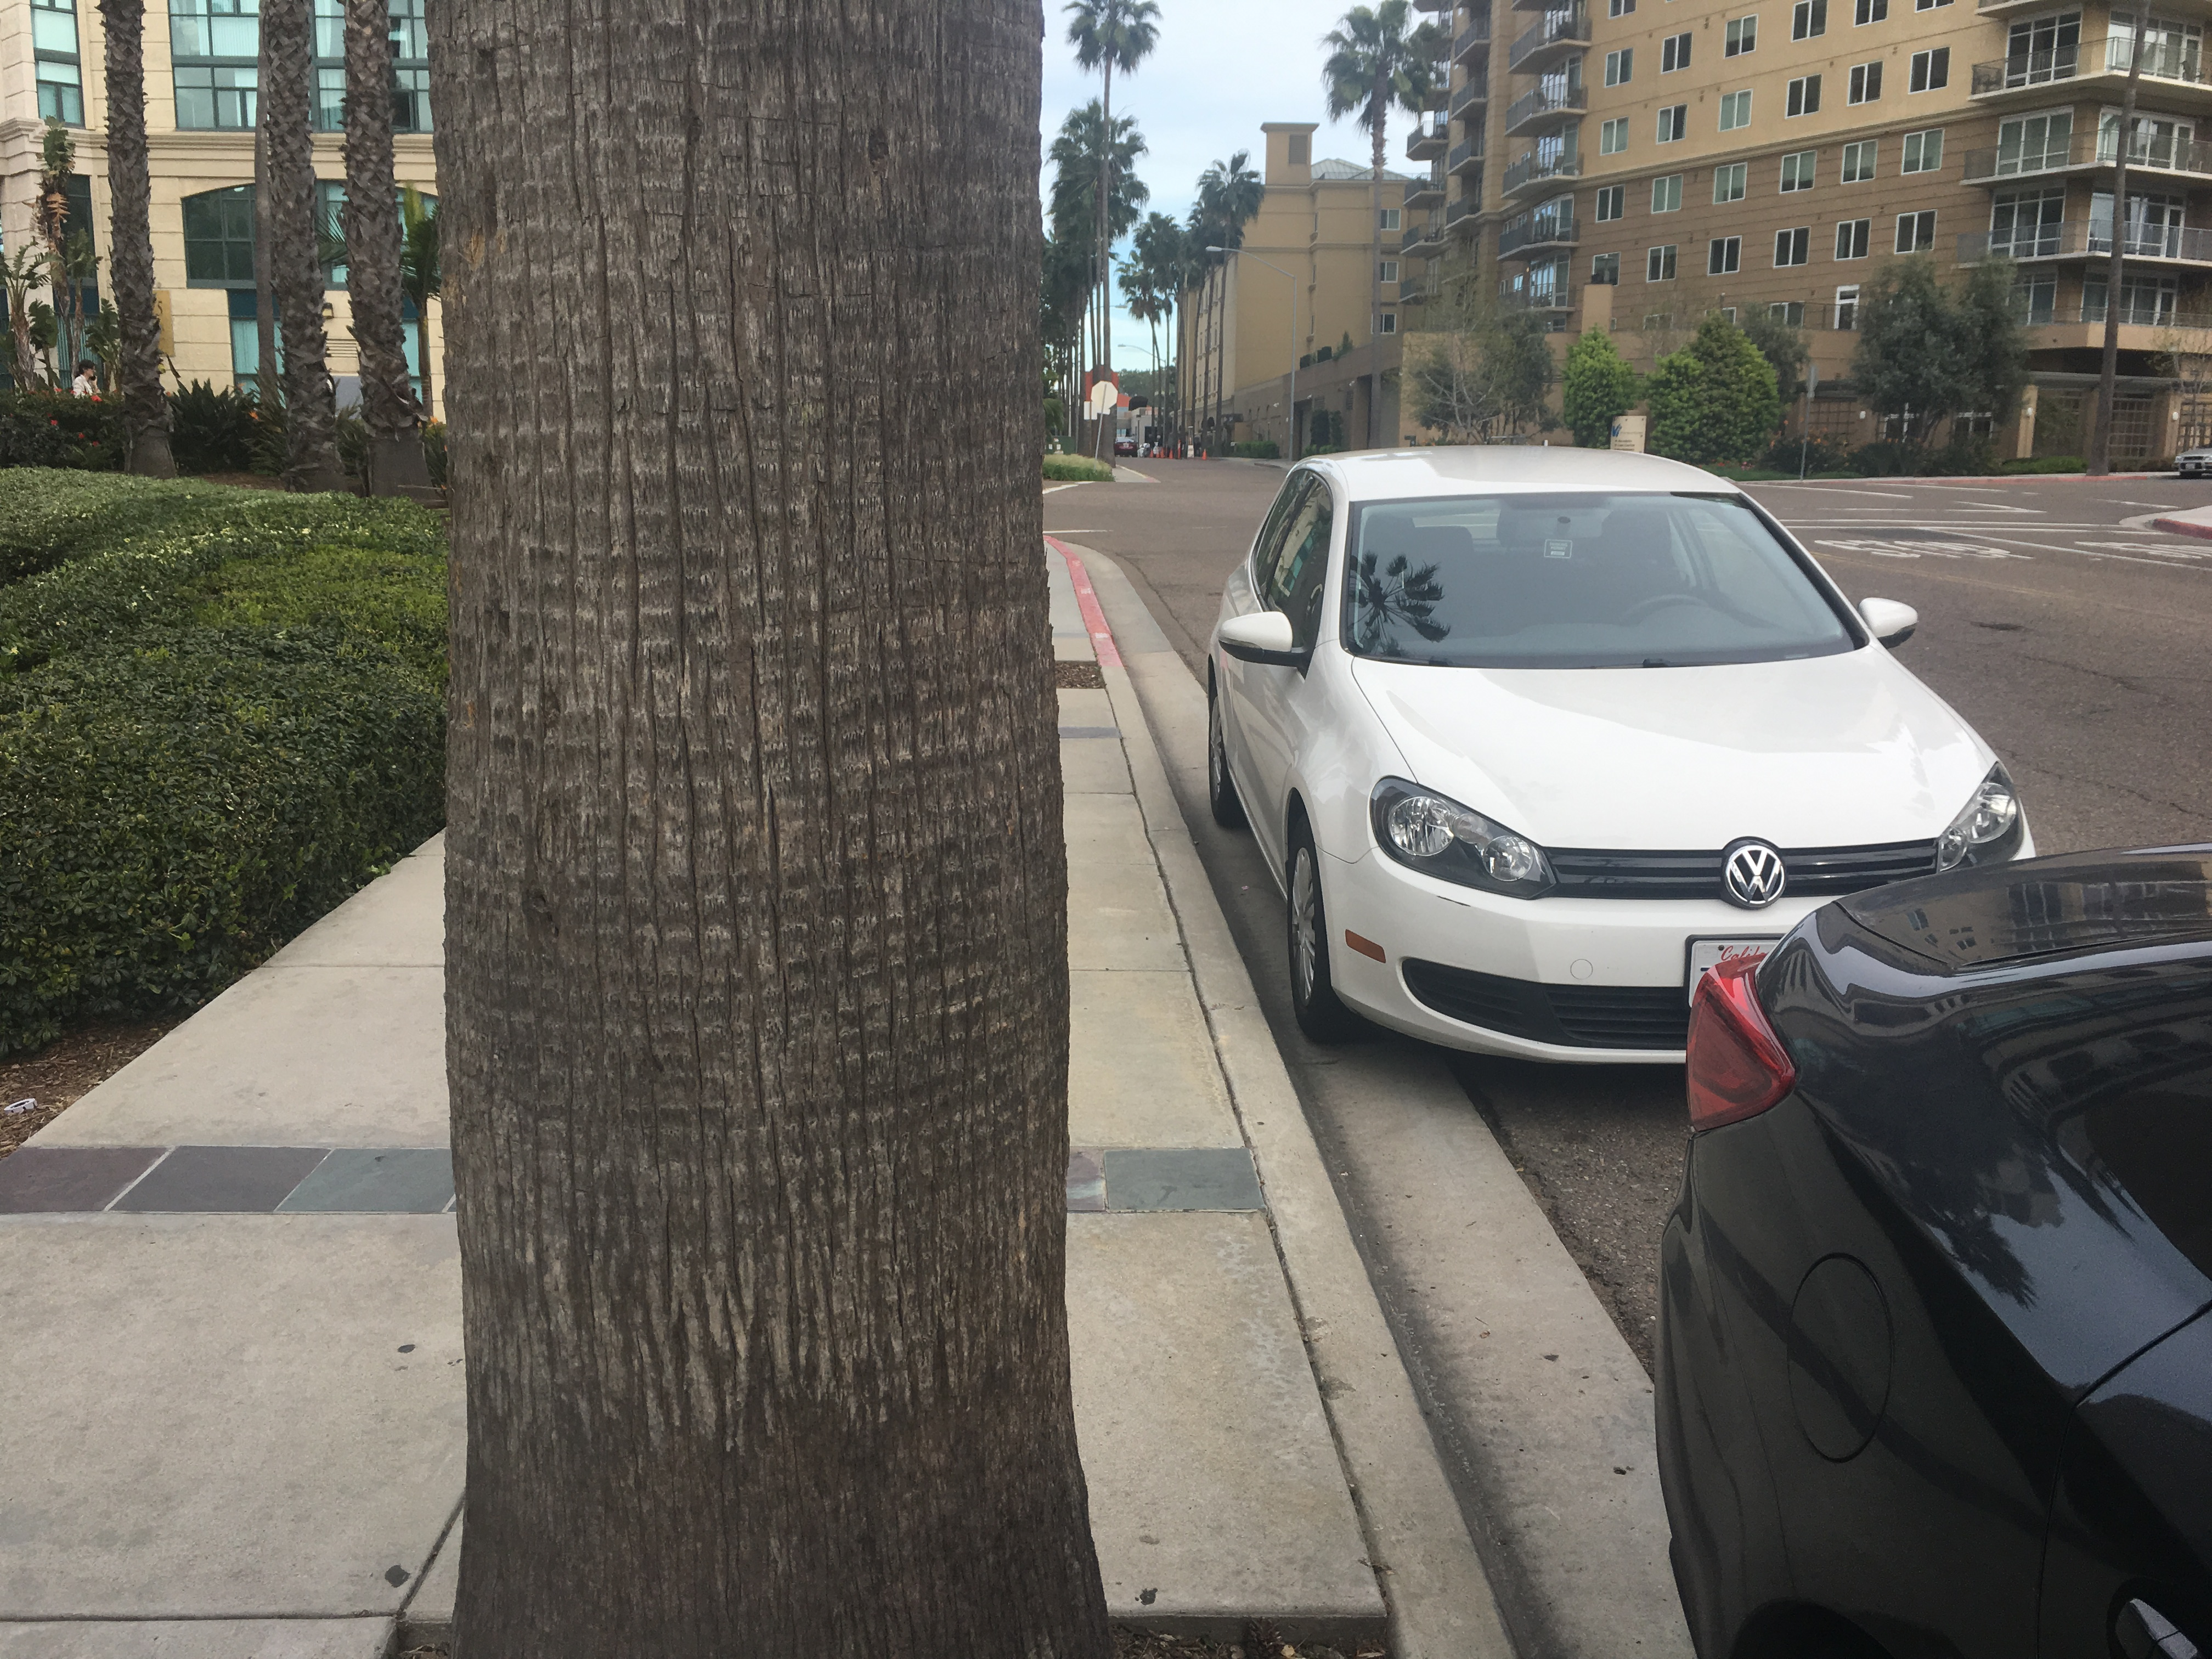Edge: (1057, 535, 1519, 1656), (7, 830, 442, 1161)
Obstacle: (416, 5, 1127, 1647), (1202, 396, 2041, 1070), (1613, 843, 2207, 1650)
